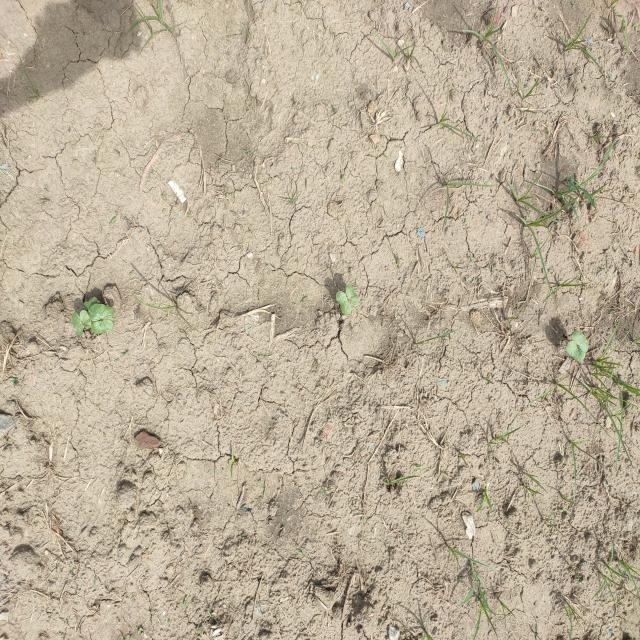seedling_s2: (89, 304, 113, 321), (335, 291, 351, 315), (566, 341, 585, 361), (572, 331, 588, 354), (92, 319, 113, 334), (346, 285, 358, 306), (72, 312, 82, 336), (83, 297, 101, 310), (80, 310, 92, 329)
